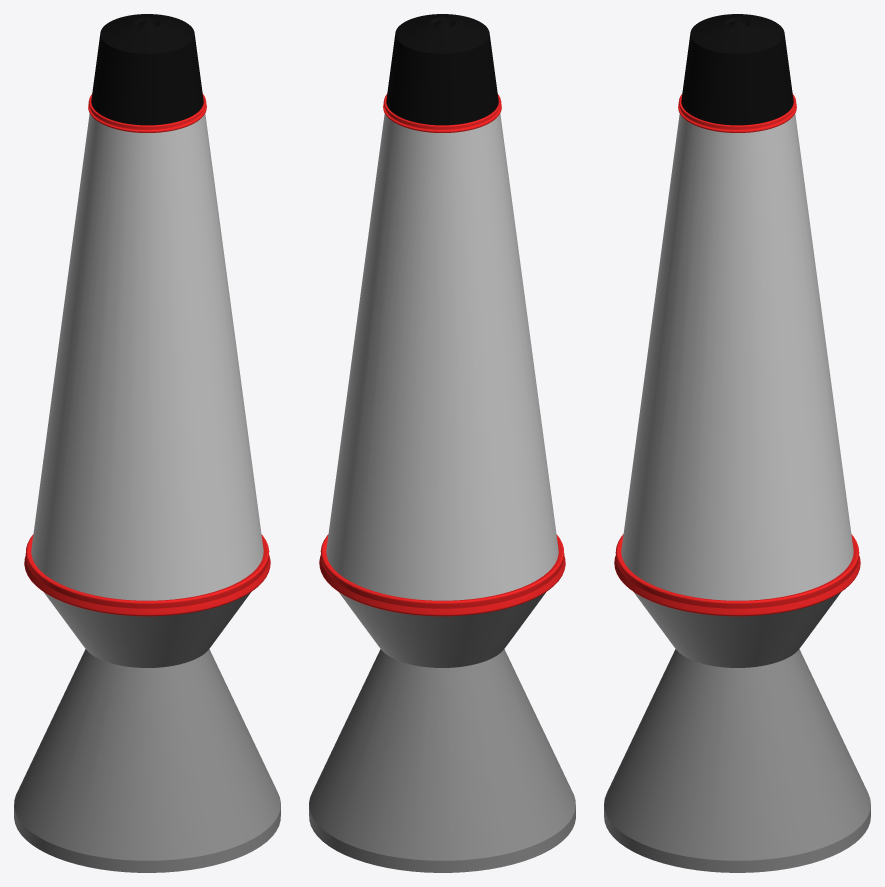
Rendered from lava_lamp_last_game_ready_asset.glb.
The picture shows the model from 3 angles, left to right: view 1: azimuth 30°, elevation 25°; view 2: azimuth 150°, elevation 25°; view 3: azimuth 270°, elevation 25°; orthographic projection.
Parts seen in each view (by area): view 1: Cylinder.001_0; view 2: Cylinder.001_0; view 3: Cylinder.001_0.
Part boxes in pixels (x1,y1,x2,y2): Cylinder.001_0: (14, 14, 280, 872); Cylinder.001_0: (309, 14, 575, 872); Cylinder.001_0: (604, 14, 870, 872).
Bounding box in the file's own units: 4.97 × 16.35 × 4.97.
